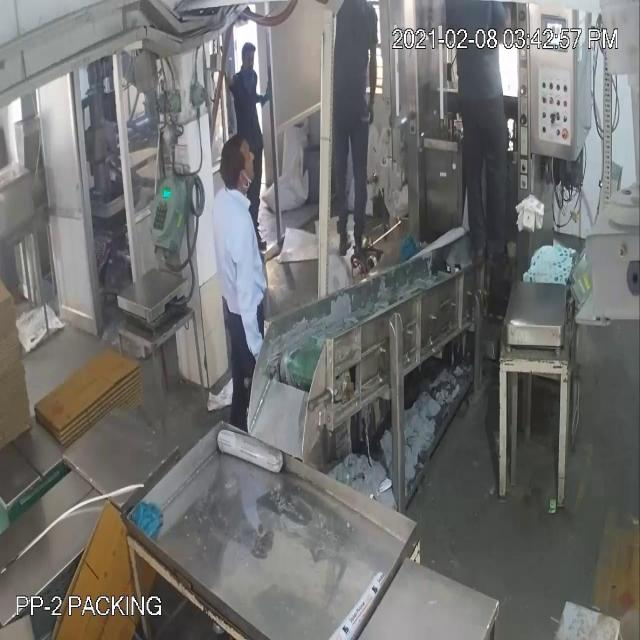No_Gloves: (17, 80, 372, 298)
